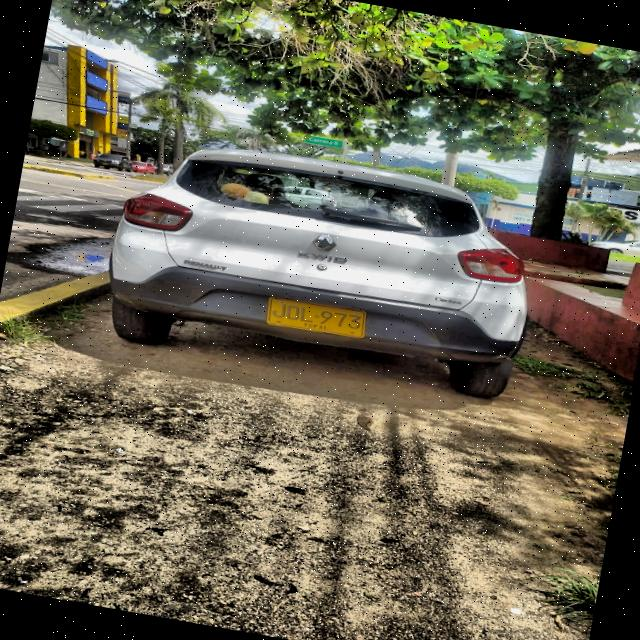3: (345, 314, 362, 331)
7: (332, 311, 348, 328)
9: (317, 309, 333, 326)
J: (270, 301, 286, 318)
L: (298, 306, 314, 323)
O: (284, 304, 300, 320)
